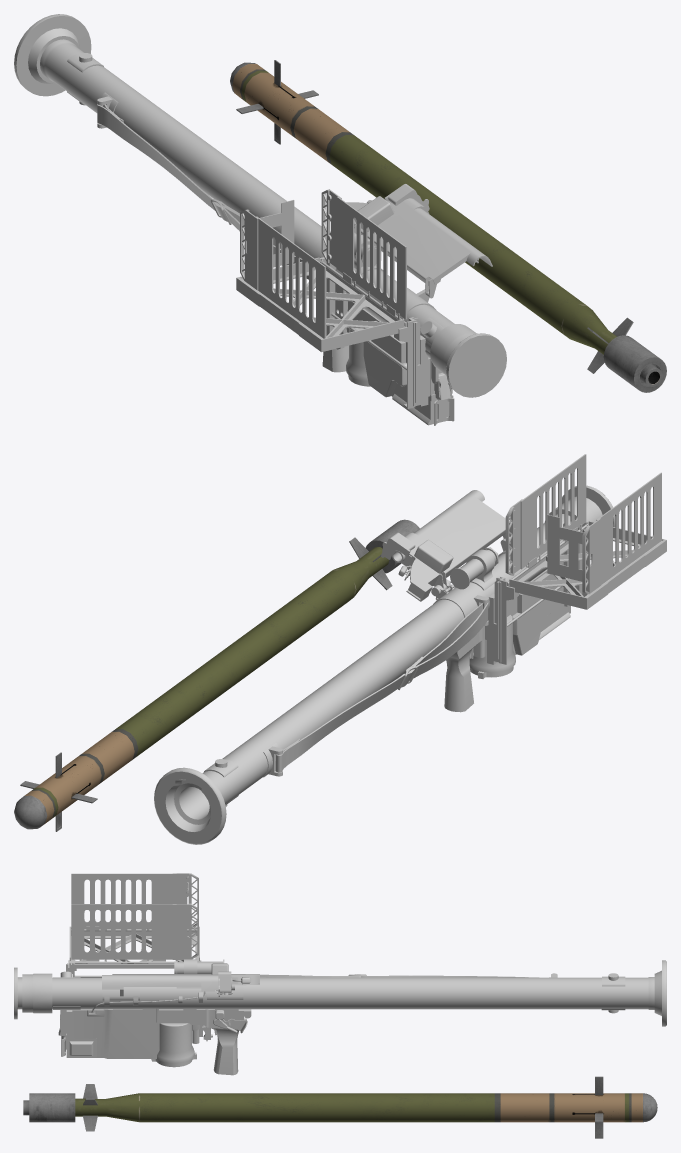
The model's file is fim 92 stinger.fbx.
3 views of the same model, one above another, from view 1: azimuth 30°, elevation 25°; view 2: azimuth 150°, elevation 25°; view 3: azimuth 270°, elevation 25° (orthographic). The views are drawn at different scales.
Visible parts, largest first — view 1: fim 92 stinger, rocket; view 2: fim 92 stinger, rocket; view 3: fim 92 stinger, rocket.
Part boxes in pixels (<box>): fim 92 stinger: <box>14,14,506,425</box>; rocket: <box>230,60,666,392</box>; fim 92 stinger: <box>154,454,666,844</box>; rocket: <box>14,519,419,831</box>; fim 92 stinger: <box>14,873,666,1075</box>; rocket: <box>23,1076,657,1138</box>.
Size of the model in its own units: 49.25 by 27.97 by 107.
